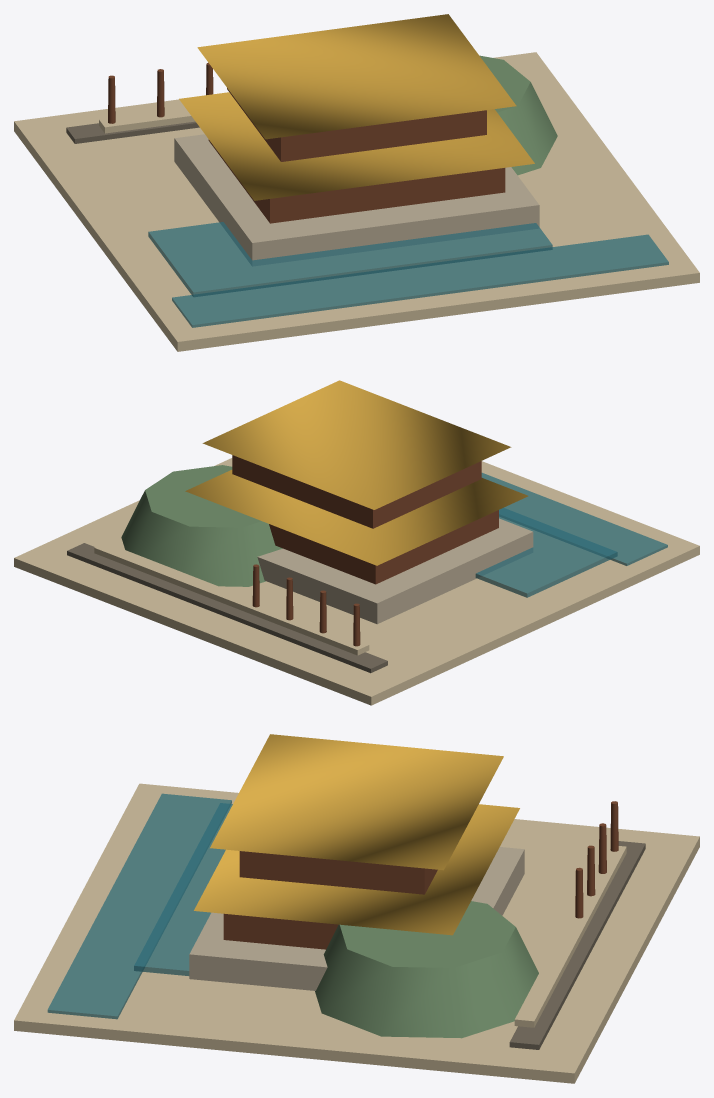
Rendered from model-medium.glb.
3 renders of one model, top to bottom at view 1: azimuth 30°, elevation 25°; view 2: azimuth 150°, elevation 25°; view 3: azimuth 270°, elevation 25°, orthographic. The views are drawn at different scales.
Parts seen in each view (by area): view 1: context_site_plinth, pavilion_roof_2, pavilion_terrace, context_water_edge, pavilion_roof_1, garden_pond, pavilion_floor_1, pavilion_floor_2, garden_rockery_hill, garden_gallery_path, front_scale_strip; view 2: context_site_plinth, pavilion_roof_2, garden_rockery_hill, pavilion_roof_1, pavilion_terrace, garden_pond, context_water_edge, pavilion_floor_2, pavilion_floor_1, front_scale_strip, garden_gallery_path; view 3: context_site_plinth, pavilion_roof_2, garden_rockery_hill, context_water_edge, pavilion_roof_1, pavilion_terrace, garden_pond, pavilion_floor_2, front_scale_strip, garden_gallery_path, pavilion_floor_1.
Boxes of the visible parts, box(x1,y1,x2,y2) form: context_site_plinth: box(14, 52, 699, 351); pavilion_roof_2: box(197, 14, 516, 139); pavilion_terrace: box(174, 134, 539, 266); context_water_edge: box(172, 234, 668, 327); pavilion_roof_1: box(179, 92, 534, 200); garden_pond: box(148, 222, 552, 297); pavilion_floor_1: box(208, 139, 505, 223); pavilion_floor_2: box(227, 88, 486, 161); garden_rockery_hill: box(480, 55, 557, 175); garden_gallery_path: box(99, 108, 195, 133); front_scale_strip: box(66, 121, 199, 143); context_site_plinth: box(14, 458, 699, 705); pavilion_roof_2: box(202, 380, 511, 509); garden_rockery_hill: box(121, 465, 282, 586); pavilion_roof_1: box(185, 470, 528, 565); pavilion_terrace: box(257, 518, 533, 624); garden_pond: box(475, 507, 617, 597); context_water_edge: box(481, 472, 667, 565); pavilion_floor_2: box(232, 455, 481, 528); pavilion_floor_1: box(269, 510, 498, 584); front_scale_strip: box(67, 543, 387, 673); garden_gallery_path: box(94, 542, 369, 655); context_site_plinth: box(14, 783, 699, 1083); pavilion_roof_2: box(210, 734, 503, 870); garden_rockery_hill: box(315, 901, 538, 1038); context_water_edge: box(47, 793, 231, 1019); pavilion_roof_1: box(194, 804, 519, 935); pavilion_terrace: box(189, 847, 524, 990); garden_pond: box(134, 803, 232, 975); pavilion_floor_2: box(239, 851, 437, 894); front_scale_strip: box(509, 841, 645, 1049); garden_gallery_path: box(514, 844, 626, 1027); pavilion_floor_1: box(223, 913, 338, 949).
Bounding box in the file's own units: 9.55 × 2.62 × 9.55.
